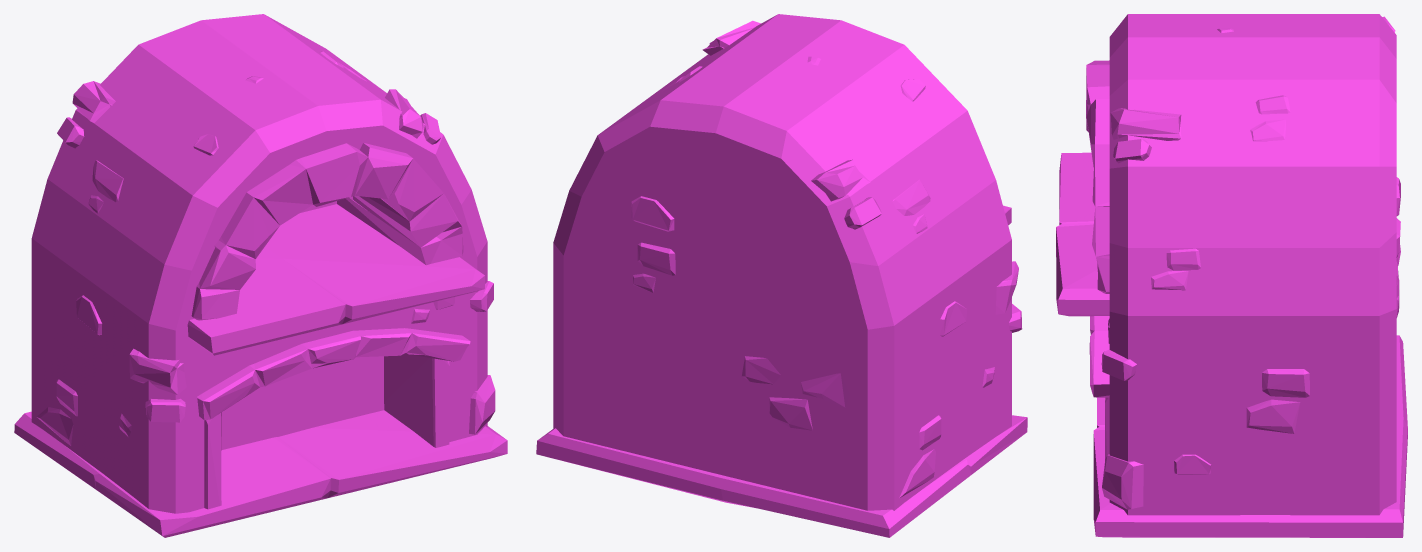
File: SM_Baking_Furnace_Fantasy.fbx
3 views of the same model, side by side, from view 1: azimuth 30°, elevation 25°; view 2: azimuth 150°, elevation 25°; view 3: azimuth 270°, elevation 25° (orthographic). The views are drawn at different scales.
Visible parts, largest first — view 1: SM_Baking_Furnace_Fantasy; view 2: SM_Baking_Furnace_Fantasy; view 3: SM_Baking_Furnace_Fantasy.
Boxes of the visible parts, x1,y1,x2,y2 form: SM_Baking_Furnace_Fantasy: (14, 14, 507, 537); SM_Baking_Furnace_Fantasy: (536, 14, 1027, 537); SM_Baking_Furnace_Fantasy: (1056, 14, 1407, 537).
Bounding box in the file's own units: 1.59 × 1.66 × 1.28.
